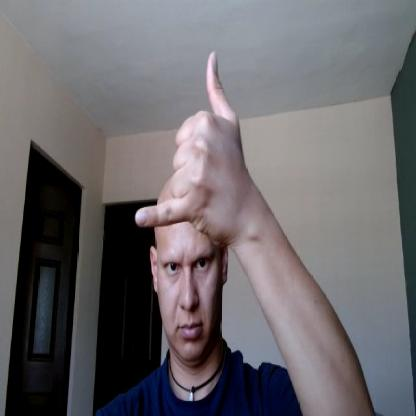Y: (135, 50, 247, 233)
